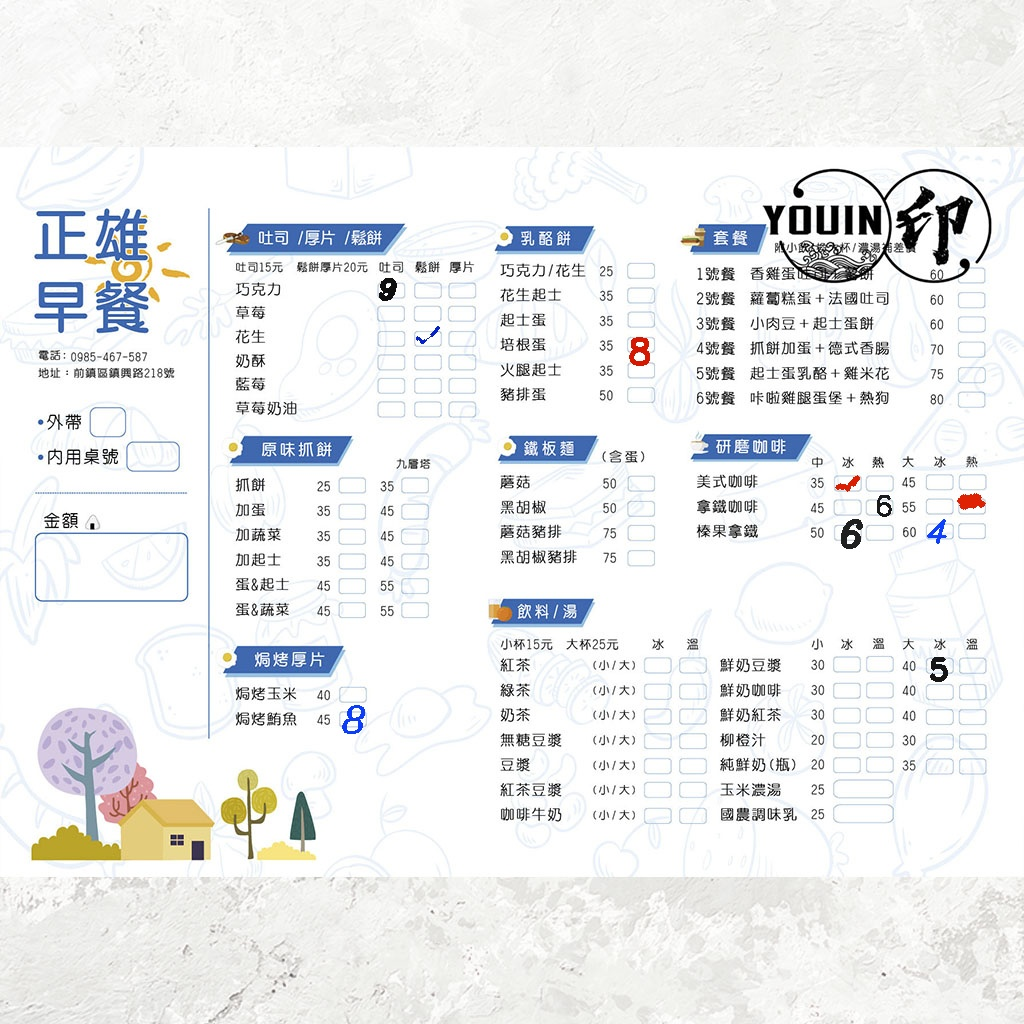marked_number_4: (926, 522, 952, 536)
marked_number_5: (926, 657, 952, 671)
marked_number_6: (834, 524, 860, 538), (866, 499, 892, 513)
marked_number_8: (338, 711, 364, 725), (627, 337, 653, 351)
marked_number_9: (377, 282, 403, 296)
marked_tick: (833, 476, 859, 490), (414, 330, 440, 344)
marked_x: (958, 497, 984, 511)
